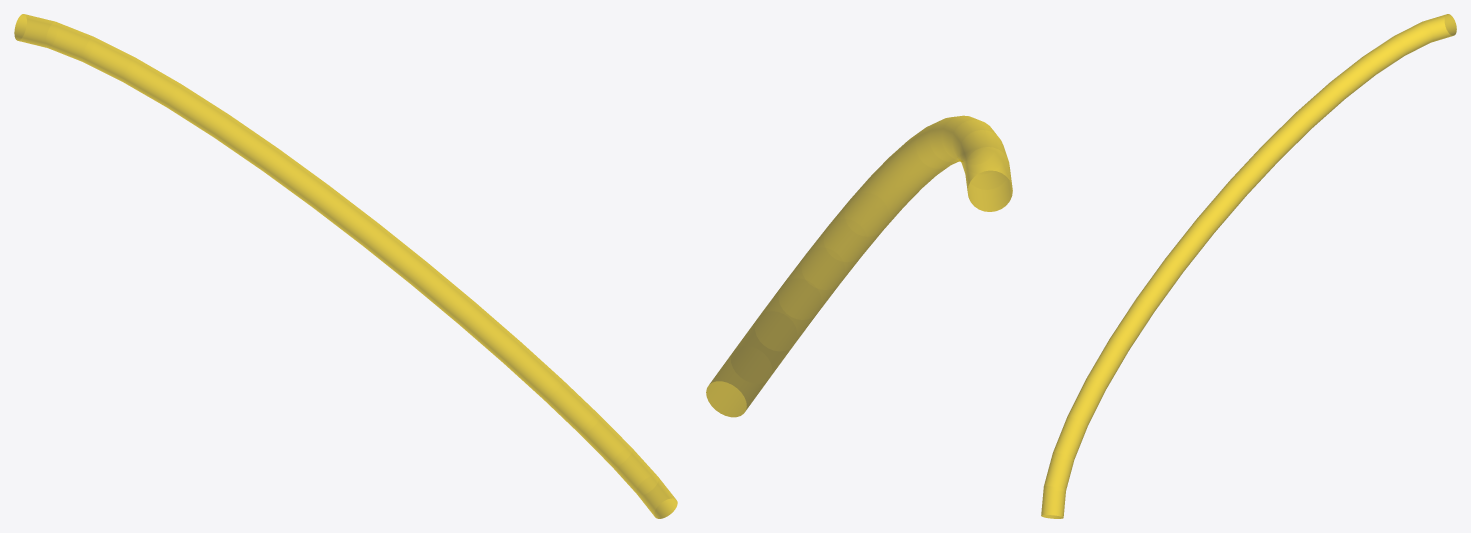
File: Event_17758602_track_126.fbx
3 views of the same model, side by side, from view 1: azimuth 30°, elevation 25°; view 2: azimuth 150°, elevation 25°; view 3: azimuth 270°, elevation 25° (orthographic). The views are drawn at different scales.
Visible parts, largest first — view 1: Model; view 2: Model; view 3: Model.
Part boxes in pixels (left/top/right/bottom): Model: left=14, top=14, right=677, bottom=518; Model: left=706, top=115, right=1012, bottom=417; Model: left=1041, top=14, right=1456, bottom=518.
Size of the model in its own units: 0.7076 by 0.6745 by 0.7332.
